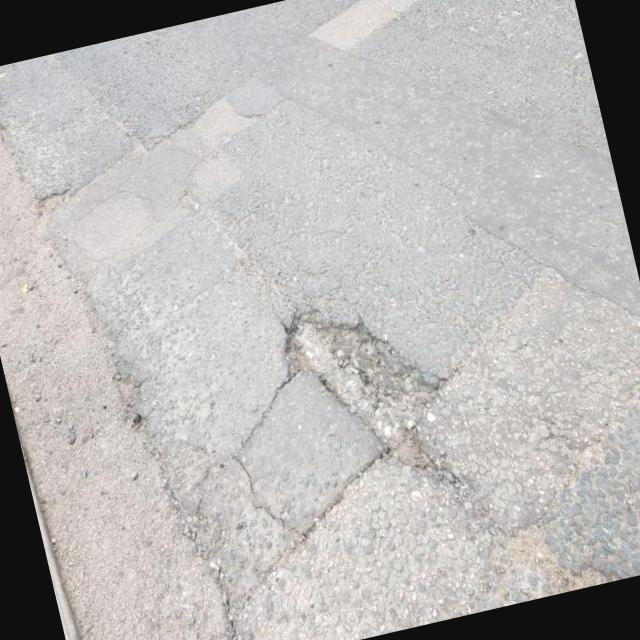pothole: (270, 272, 473, 502)
